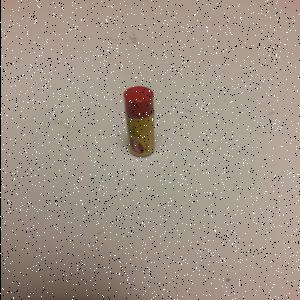Trash: (124, 87, 157, 159)
